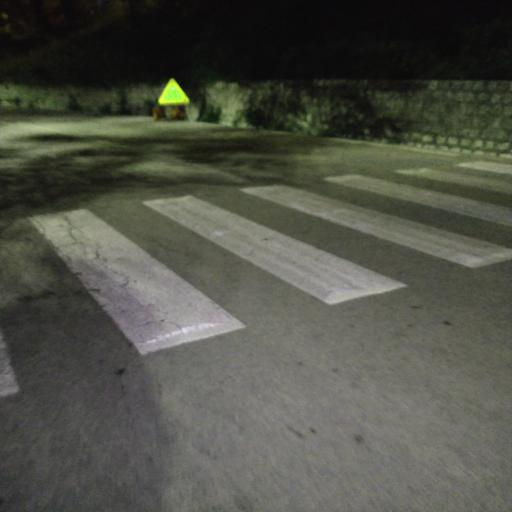crosswalk: (137, 174, 511, 329)
